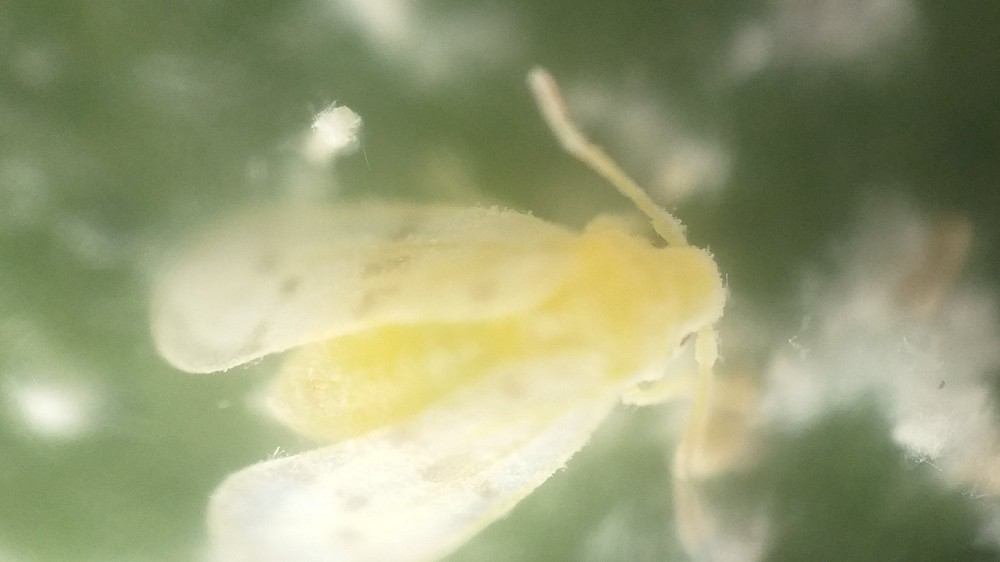Mosca Blanca: (148, 58, 789, 559)
